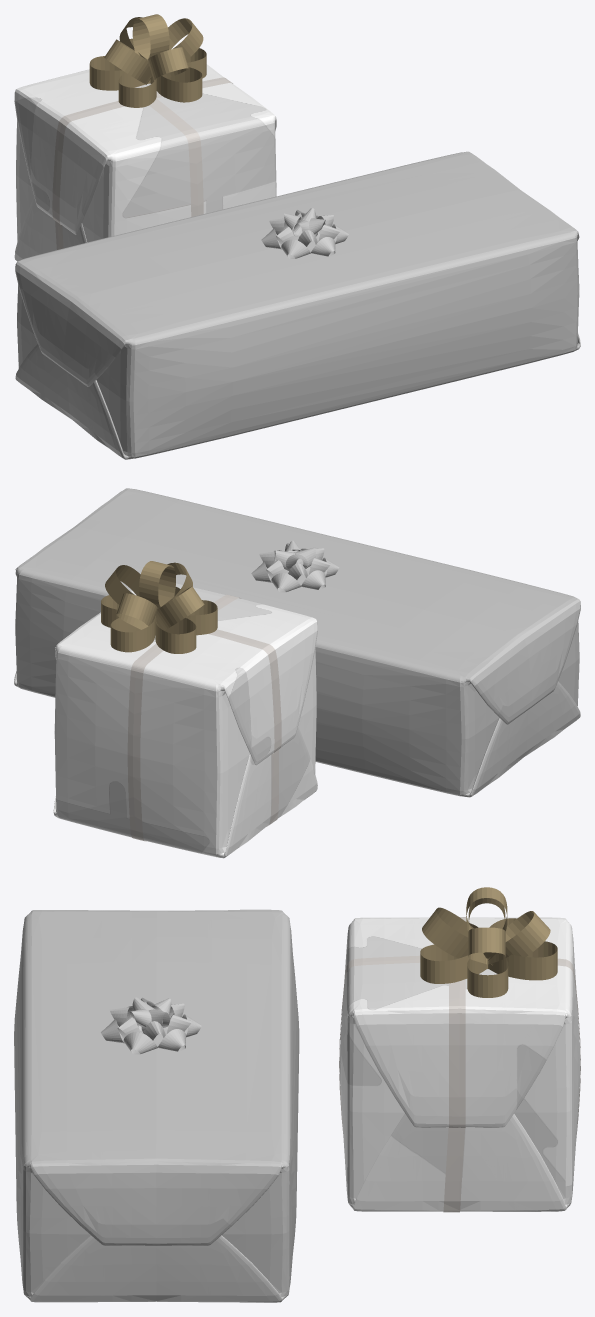
The model's file is Gift Boxs.fbx.
The picture shows the model from 3 angles, top to bottom: view 1: azimuth 30°, elevation 25°; view 2: azimuth 150°, elevation 25°; view 3: azimuth 270°, elevation 25°; orthographic projection. The views are drawn at different scales.
Visible parts, largest first — view 1: Present 02 Ribbon.Shape, Present01.Shape, Bow03.Shape, Present 01 Ribbon.Shape, bow01.Shape; view 2: Present 02 Ribbon.Shape, Present01.Shape, Bow03.Shape, Present 01 Ribbon.Shape, bow01.Shape; view 3: Present 02 Ribbon.Shape, Present01.Shape, Bow03.Shape, Present 01 Ribbon.Shape, bow01.Shape.
Part boxes in pixels (bbox=[...]): Present 02 Ribbon.Shape: bbox=[15, 151, 580, 459]; Present01.Shape: bbox=[14, 64, 276, 261]; Bow03.Shape: bbox=[89, 14, 206, 107]; Present 01 Ribbon.Shape: bbox=[52, 77, 232, 249]; bow01.Shape: bbox=[261, 208, 348, 258]; Present 02 Ribbon.Shape: bbox=[14, 488, 580, 797]; Present01.Shape: bbox=[53, 583, 317, 858]; Bow03.Shape: bbox=[101, 561, 217, 653]; Present 01 Ribbon.Shape: bbox=[127, 594, 281, 841]; bow01.Shape: bbox=[251, 540, 339, 592]; Present 02 Ribbon.Shape: bbox=[14, 909, 299, 1302]; Present01.Shape: bbox=[339, 917, 580, 1211]; Bow03.Shape: bbox=[420, 887, 557, 997]; Present 01 Ribbon.Shape: bbox=[339, 917, 580, 1212]; bow01.Shape: bbox=[101, 997, 201, 1054].
Size of the model in its own units: 111 by 56.68 by 101.
6 materials, 1 textured.
